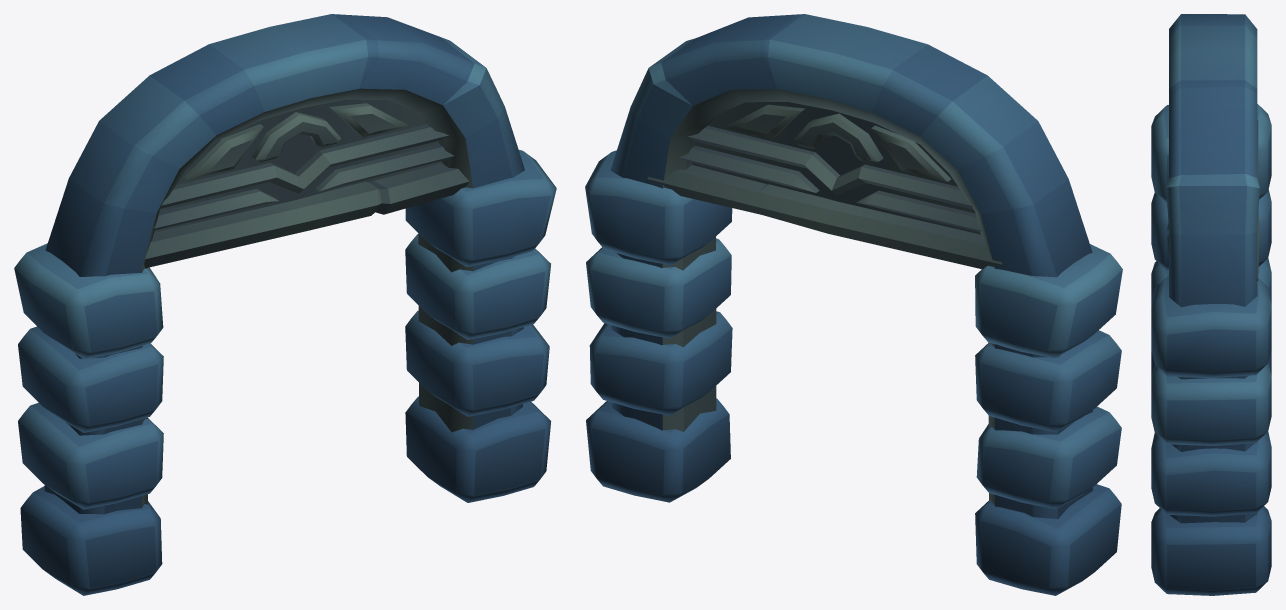
Rendered from doorframe.fbx.
3 renders of one model, left to right at view 1: azimuth 30°, elevation 25°; view 2: azimuth 150°, elevation 25°; view 3: azimuth 270°, elevation 25°, orthographic. The views are drawn at different scales.
Visible parts, largest first — view 1: doorframe; view 2: doorframe; view 3: doorframe.
Boxes of the visible parts, bbox=[...] form: doorframe: bbox=[14, 14, 556, 595]; doorframe: bbox=[585, 14, 1122, 595]; doorframe: bbox=[1151, 14, 1271, 595].
Size of the model in its own units: 344 by 315 by 77.11.
